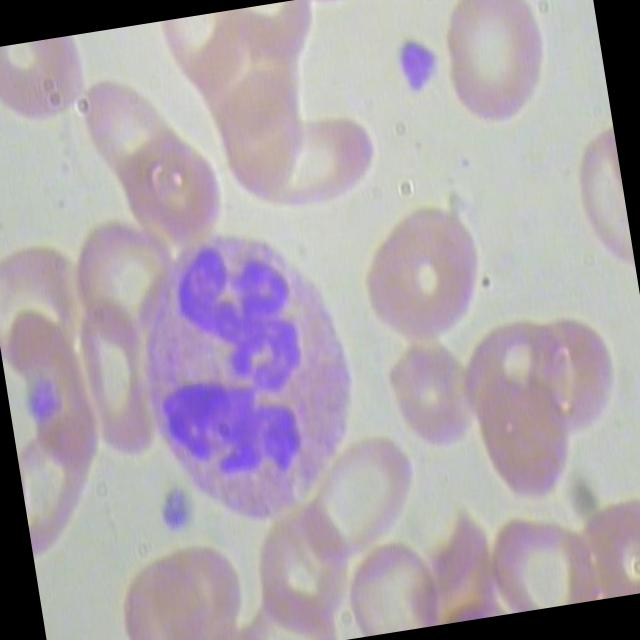Platelets: (377, 26, 448, 106), (143, 473, 197, 542), (20, 368, 64, 424)
RBC: (352, 193, 497, 364), (284, 428, 428, 578), (428, 0, 572, 142), (222, 112, 396, 226), (202, 78, 322, 216), (65, 202, 179, 334), (249, 496, 361, 628), (70, 305, 157, 465), (382, 344, 488, 466), (473, 390, 579, 512), (108, 559, 208, 640)
WBC: (128, 223, 366, 538)
